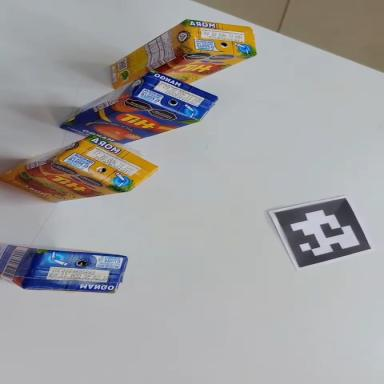HIT-MANGO: (53, 55, 223, 159), (0, 243, 128, 297)
HIT-MORA: (100, 0, 262, 112), (0, 126, 161, 209)
cara_F: (57, 81, 199, 161), (0, 152, 128, 211), (154, 28, 256, 95)
